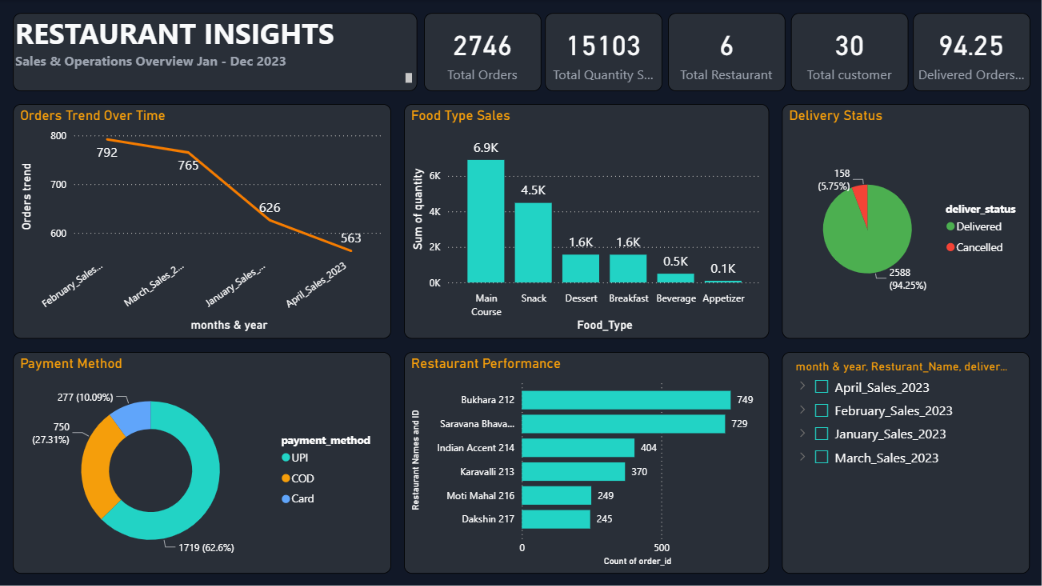

What the dashboard file says about the page in this screenshot:
{"tool":"powerbi","page":{"name":"Dashboard","canvas":[1280,720],"ordinal":0},"visuals":[{"type":"card","fields":{"Values":["CountNonNull(Orders Data.order_id)"]},"box":[520,16,144,96],"z":0},{"type":"card","fields":{"Values":["Sum(Orders Data.quantity)"]},"box":[669,16,144,96],"z":1000},{"type":"card","fields":{"Values":["Count(Orders Data.customer_id)"]},"box":[970,16,144,96],"z":2000},{"type":"card","fields":{"Values":["Count(Orders Data.Resturant_ID)"]},"box":[820,16,144,96],"z":3000},{"type":"card","fields":{"Values":["Orders Data.Delivered Orders %"]},"box":[1120,16,144,96],"z":4000},{"type":"lineChart","title":"Orders Trend Over Time","fields":{"Category":["Orders Data.month & year"],"Y":["CountNonNull(Orders Data.order_id)"]},"box":[16,128,464,288],"z":5000},{"type":"clusteredColumnChart","title":"Food Type Sales","fields":{"Category":["Food_Details.Food_Type"],"Y":["Sum(Orders Data.quantity)"]},"box":[496,128,448,288],"z":6000},{"type":"pieChart","title":"Delivery Status","fields":{"Category":["Orders Data.deliver_status"],"Y":["CountNonNull(Orders Data.order_id)"]},"box":[960,128,304,288],"z":7000},{"type":"donutChart","title":"Payment Method","fields":{"Category":["Orders Data.payment_method"],"Y":["CountNonNull(Orders Data.order_id)"]},"box":[16,432,464,272],"z":8000},{"type":"barChart","title":"Restaurant Performance","fields":{"Category":["Resturant_Details.Resturant_Name","Orders Data.Resturant_ID"],"Y":["CountNonNull(Orders Data.order_id)"]},"box":[496,432,448,272],"z":9000},{"type":"slicer","fields":{"Values":["Orders Data.month & year","Resturant_Details.Resturant_Name","Orders Data.deliver_status"]},"box":[960,432,304,272],"z":10000},{"type":"textbox","title":"RESTAURANT INSIGHTS","box":[16,16,496,96],"z":11000}]}

Visuals, with their boxes in screenshot pixels (x1, y1, x2, y2), scaled from the page's 1280x720 canvas onto the 1042x586 screenshot:
card - CountNonNull(Orders Data.order_id): [423, 13, 541, 91]
card - Sum(Orders Data.quantity): [545, 13, 662, 91]
card - Count(Orders Data.customer_id): [790, 13, 907, 91]
card - Count(Orders Data.Resturant_ID): [668, 13, 785, 91]
card - Orders Data.Delivered Orders %: [912, 13, 1029, 91]
"Orders Trend Over Time" lineChart: [13, 104, 391, 339]
"Food Type Sales" clusteredColumnChart: [404, 104, 768, 339]
"Delivery Status" pieChart: [782, 104, 1029, 339]
"Payment Method" donutChart: [13, 352, 391, 573]
"Restaurant Performance" barChart: [404, 352, 768, 573]
slicer - Orders Data.month & year x Resturant_Details.Resturant_Name: [782, 352, 1029, 573]
"RESTAURANT INSIGHTS" textbox: [13, 13, 417, 91]
